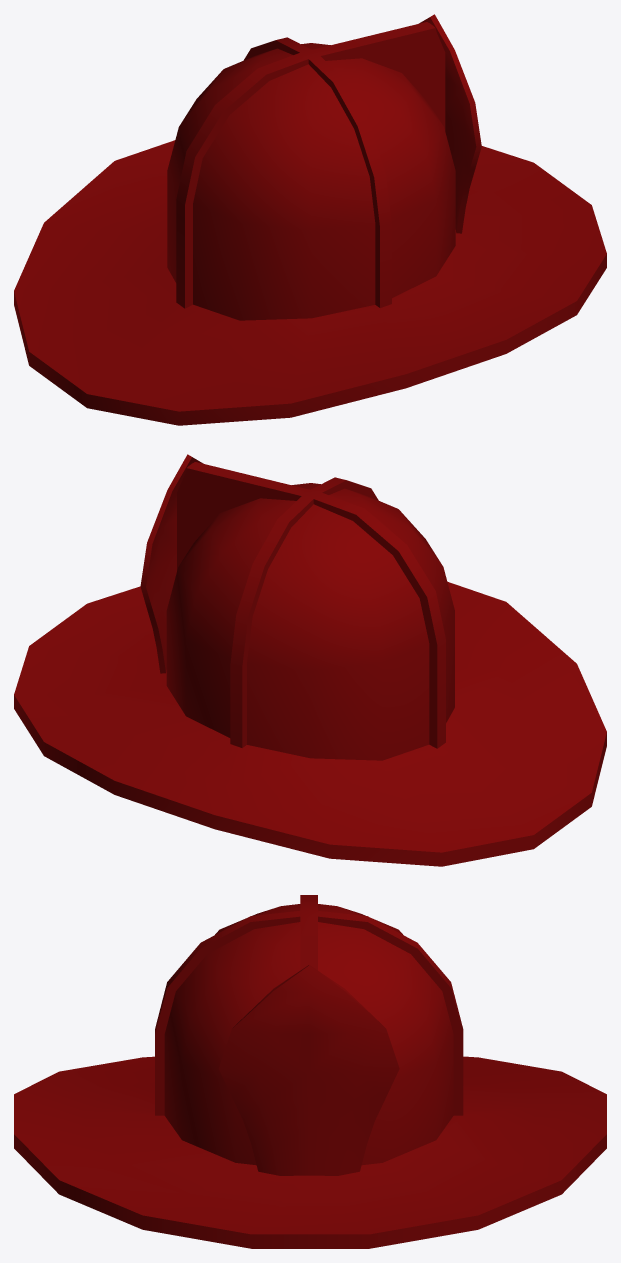
Rendered from firehelmet.fbx.
The picture shows the model from 3 angles, top to bottom: view 1: azimuth 30°, elevation 25°; view 2: azimuth 150°, elevation 25°; view 3: azimuth 270°, elevation 25°; orthographic projection.
Parts seen in each view (by area): view 1: FireHelmet; view 2: FireHelmet; view 3: FireHelmet.
Boxes of the visible parts, x1,y1,x2,y2 form: FireHelmet: (14, 14, 606, 425); FireHelmet: (14, 454, 606, 866); FireHelmet: (14, 895, 606, 1248).
Size of the model in its own units: 83.46 by 44.48 by 83.46.
